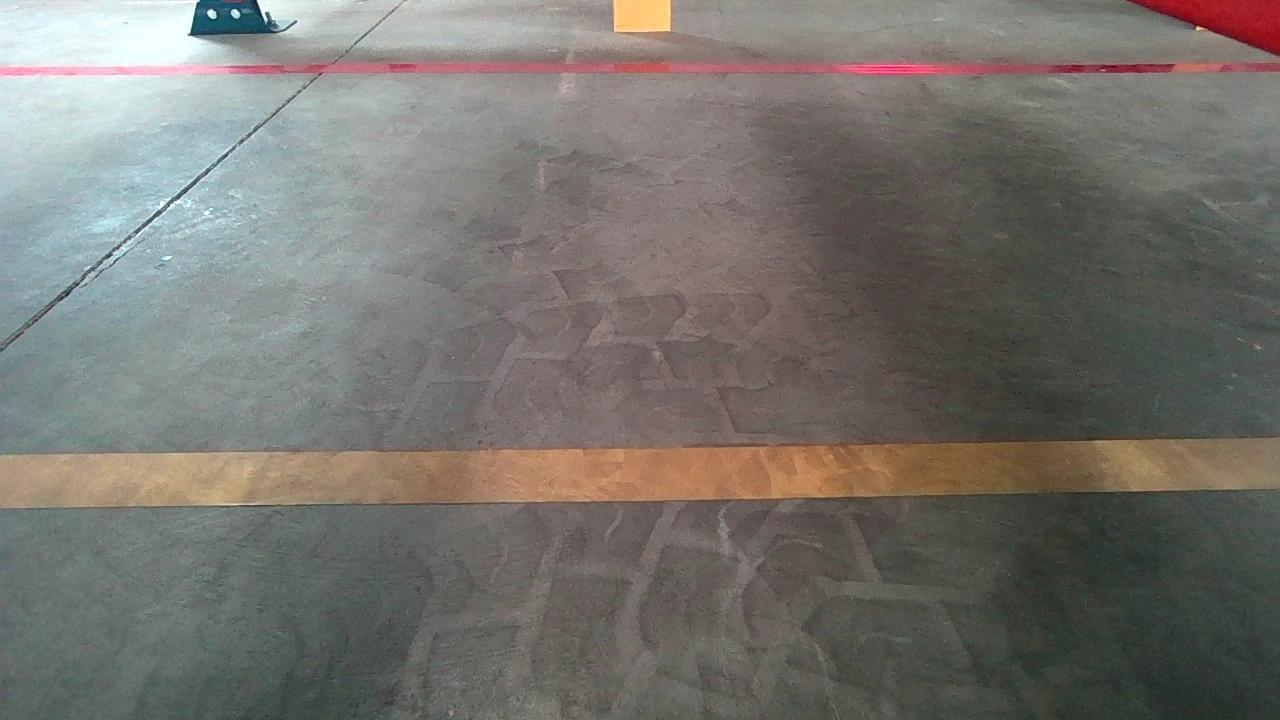orange_strip: (612, 0, 673, 33)
